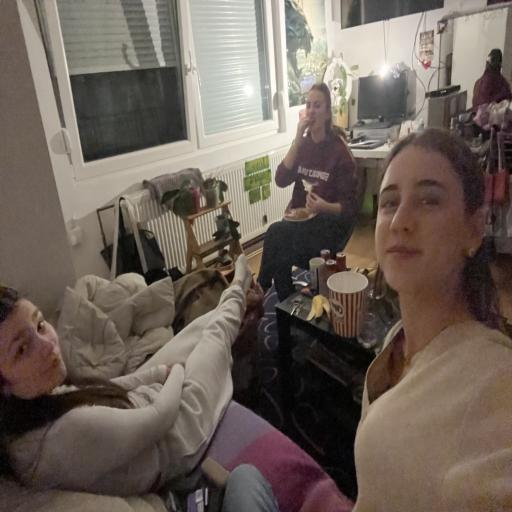masa: (378, 144, 467, 290)
